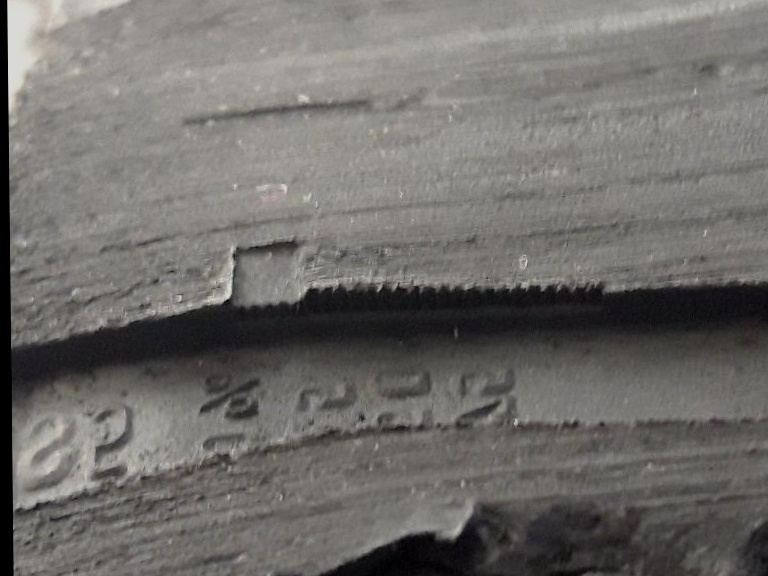temoin:0: (203, 217, 335, 358)
